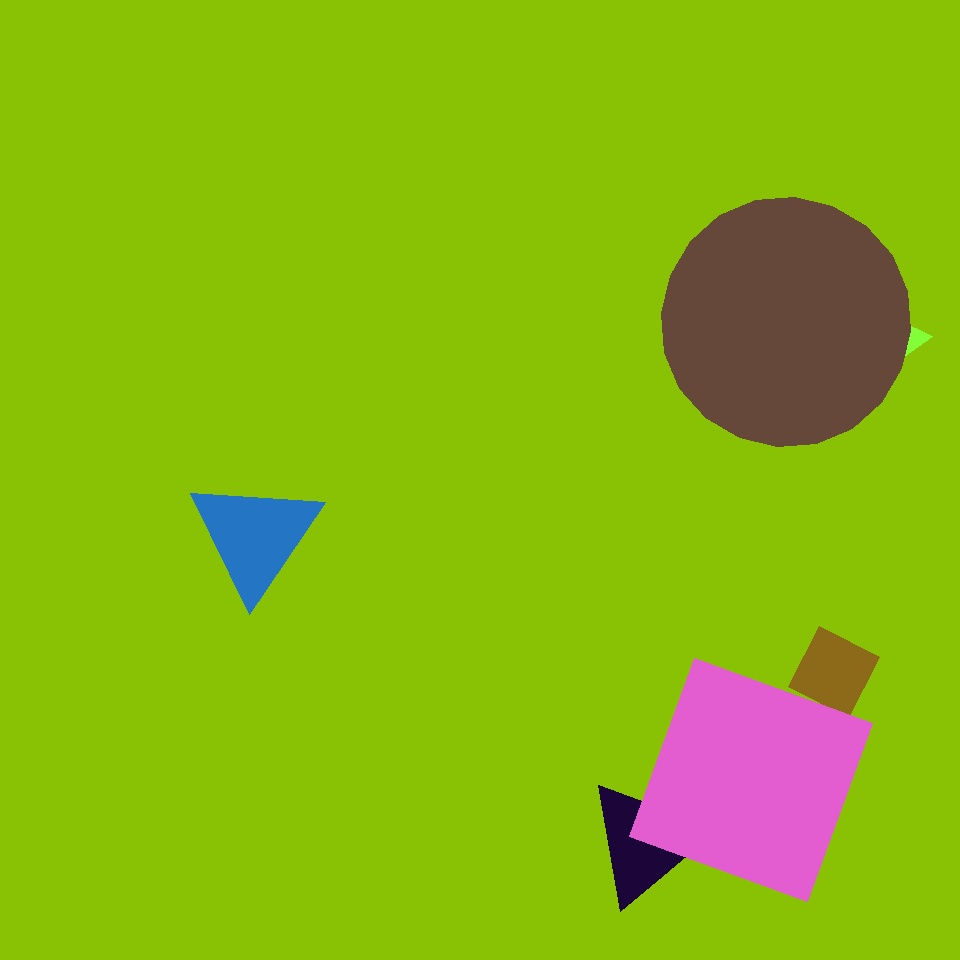circle: (166, 559, 425, 824), (672, 130, 879, 366), (188, 476, 322, 597), (586, 779, 706, 905), (667, 370, 761, 468), (840, 296, 922, 386), (569, 361, 656, 438)
square: (32, 216, 368, 552), (630, 658, 873, 902), (788, 626, 880, 717)
triangle: (661, 197, 910, 446), (389, 270, 602, 483)
